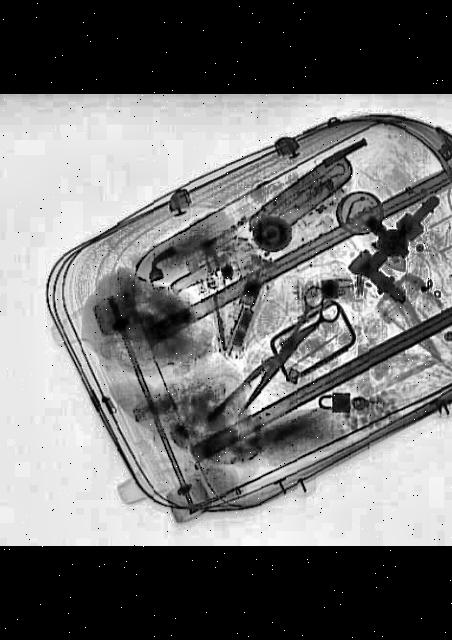Scissors: (215, 284, 348, 426)
